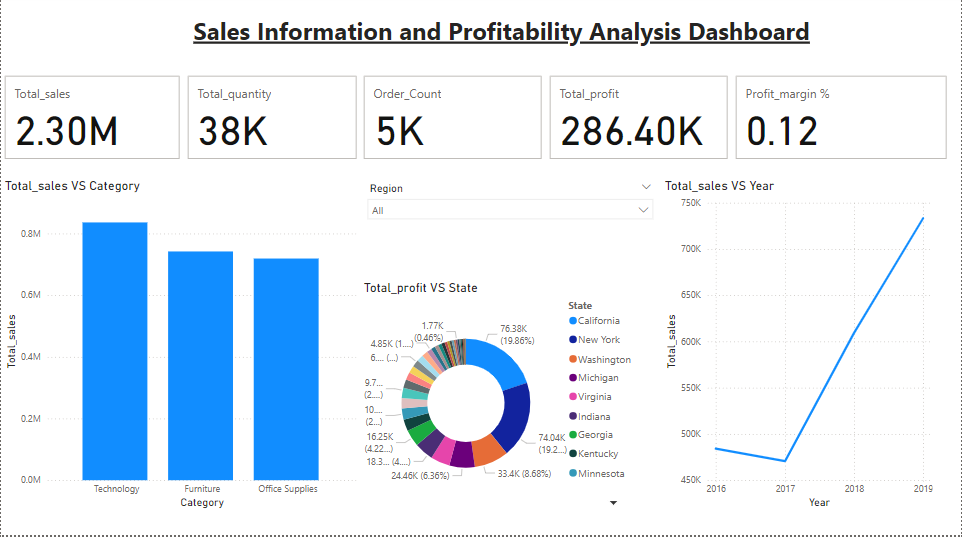

Layout of this report page (visuals, bound fields, positions):
{"tool":"powerbi","page":{"name":"Executive summary","canvas":[1280,720],"ordinal":0},"visuals":[{"type":"cardVisual","fields":{"Data":["Orders.Total_sales"]},"box":[0,103.2,243.6,121.1],"z":0},{"type":"cardVisual","fields":{"Data":["Orders.Total_profit"]},"box":[726.7,103.2,247.7,121.1],"z":1000},{"type":"cardVisual","fields":{"Data":["Orders.order_count"]},"box":[479,103.2,247.7,121.1],"z":2000},{"type":"cardVisual","fields":{"Data":["Orders.Profit_margin"]},"box":[974.5,103.2,291.8,121.1],"z":3000},{"type":"cardVisual","fields":{"Data":["Orders.Total_quantity"]},"box":[243.6,103.2,235.4,121.1],"z":4000},{"type":"textbox","box":[107.4,20.6,1119,59.2],"z":5000},{"type":"clusteredColumnChart","title":"Total_sales VS Category","fields":{"Category":["Orders.Category"],"Y":["Orders.Total_sales"]},"box":[0,243.6,479,445.9],"z":6000},{"type":"slicer","fields":{"Values":["Orders.Region"]},"box":[479,243.6,400.5,136.3],"z":7000},{"type":"lineChart","title":"Total_sales VS Year","fields":{"Category":["Orders.Order Date.Variation.Date Hierarchy.Year","Orders.Order Date.Variation.Date Hierarchy.Quarter","Orders.Order Date.Variation.Date Hierarchy.Month","Orders.Order Date.Variation.Date Hierarchy.Day"],"Y":["Orders.Total_sales"]},"box":[879.5,243.6,367.5,445.9],"z":8000},{"type":"donutChart","title":"Total_profit VS State","fields":{"Y":["Orders.Total_profit"],"Category":["Orders.State"]},"box":[479,379.9,400.5,309.7],"z":9000}]}

Visuals, with their boxes in screenshot pixels (x1, y1, x2, y2), scaled from the page's 1280x720 canvas onto the 962x537 screenshot:
cardVisual - Orders.Total_sales: left=0, top=77, right=183, bottom=167
cardVisual - Orders.Total_profit: left=546, top=77, right=732, bottom=167
cardVisual - Orders.order_count: left=360, top=77, right=546, bottom=167
cardVisual - Orders.Profit_margin: left=732, top=77, right=952, bottom=167
cardVisual - Orders.Total_quantity: left=183, top=77, right=360, bottom=167
textbox: left=81, top=15, right=922, bottom=60
"Total_sales VS Category" clusteredColumnChart: left=0, top=182, right=360, bottom=514
slicer - Orders.Region: left=360, top=182, right=661, bottom=283
"Total_sales VS Year" lineChart: left=661, top=182, right=937, bottom=514
"Total_profit VS State" donutChart: left=360, top=283, right=661, bottom=514
